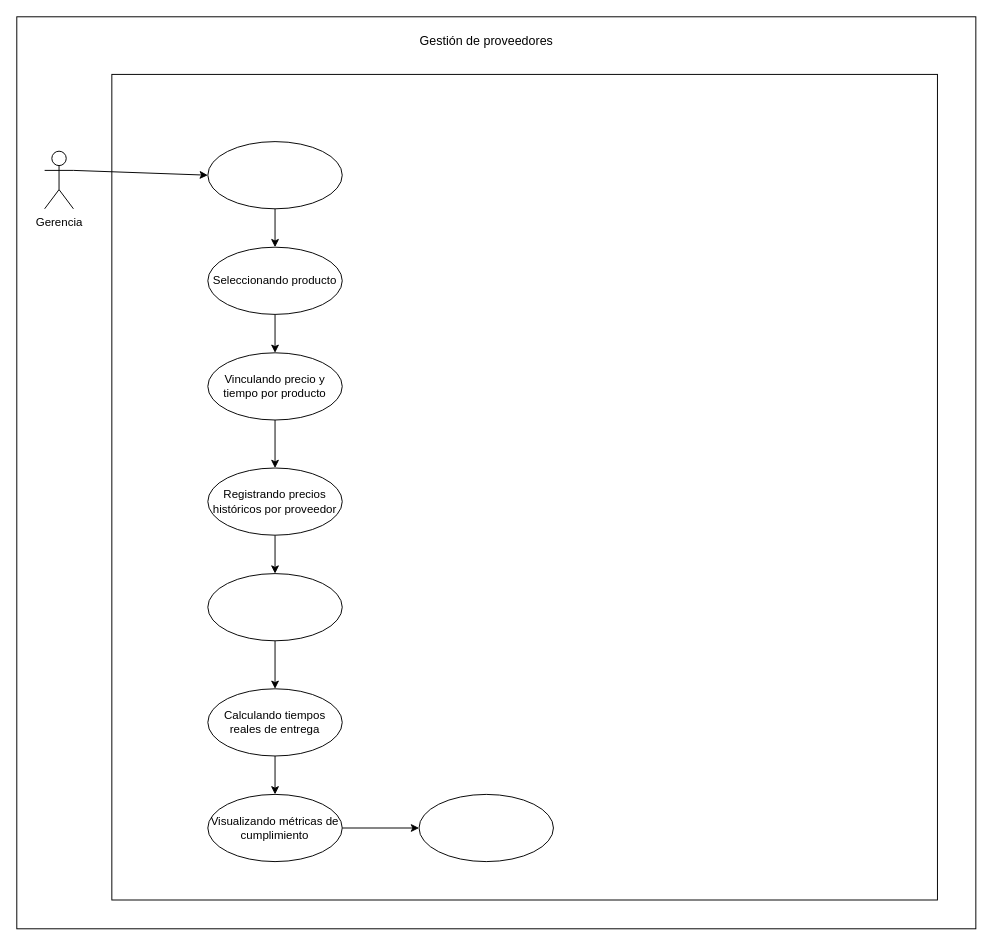
The diagram is 993 pixels wide and 946 high, and some of its shapes have lost their labels. The shapes that lost their labels are listed below. From the top down, each one's centre as x and y in pixels, then its label:
At (274,175): "Registrando proveedores".
At (274,607): "Consultando historial de precios".
At (485,827): "Comparando proveedores".
